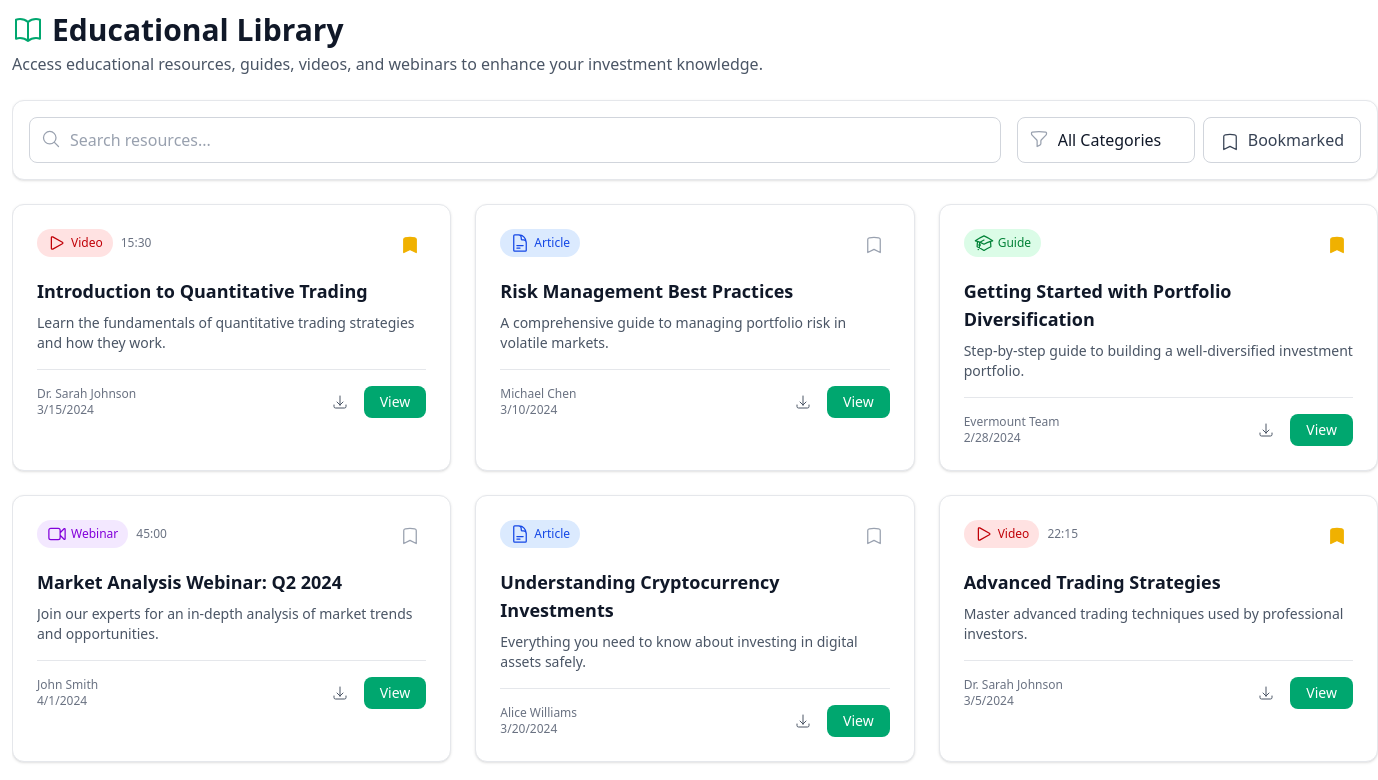
Test: LibraryPage › filters resources by search term
Type "Risk Management" into the field with placeholder "Search resources..." at (515, 140), box 29,117 -> 1001,163
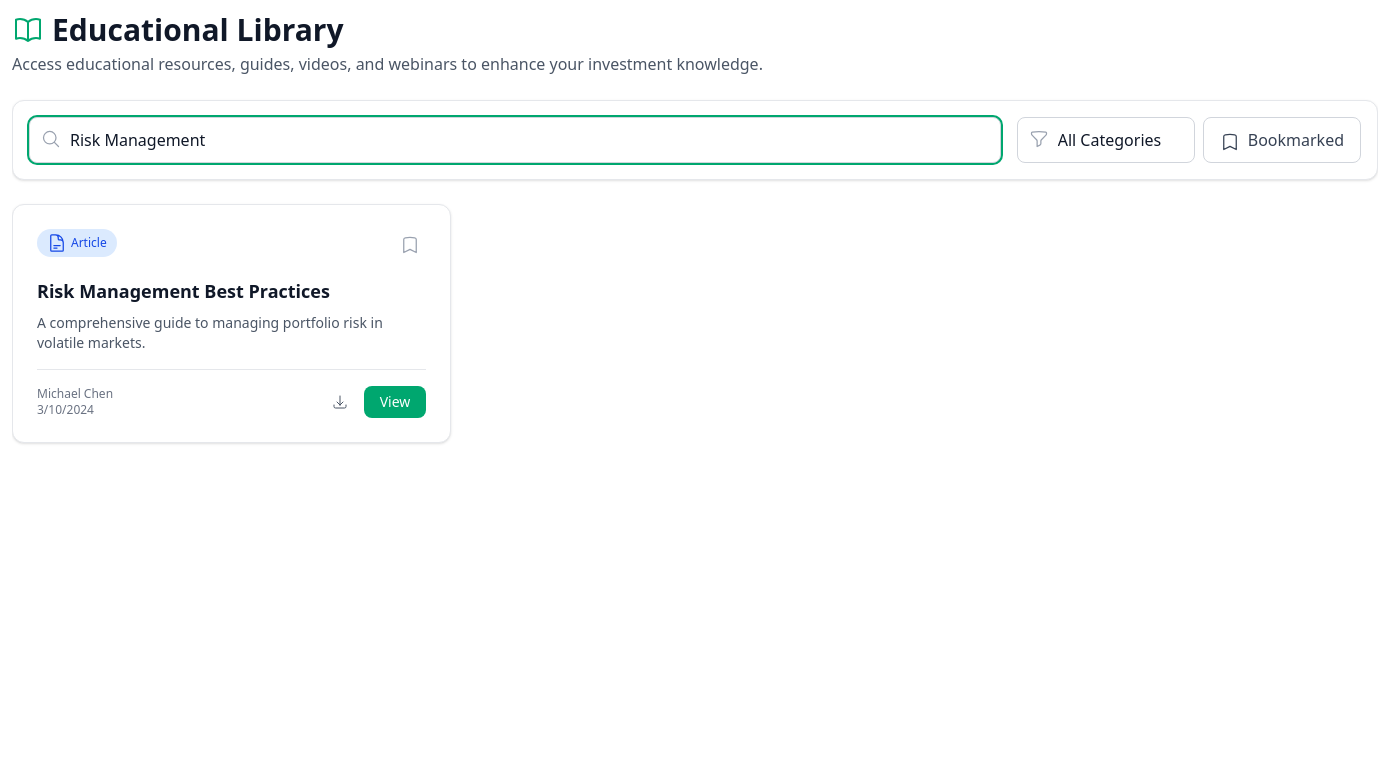
Check: the heading "Risk Management Best Practices" is shown, box 37,279 -> 330,303
Check: the heading "Introduction to Quantitative Trading" is gone
